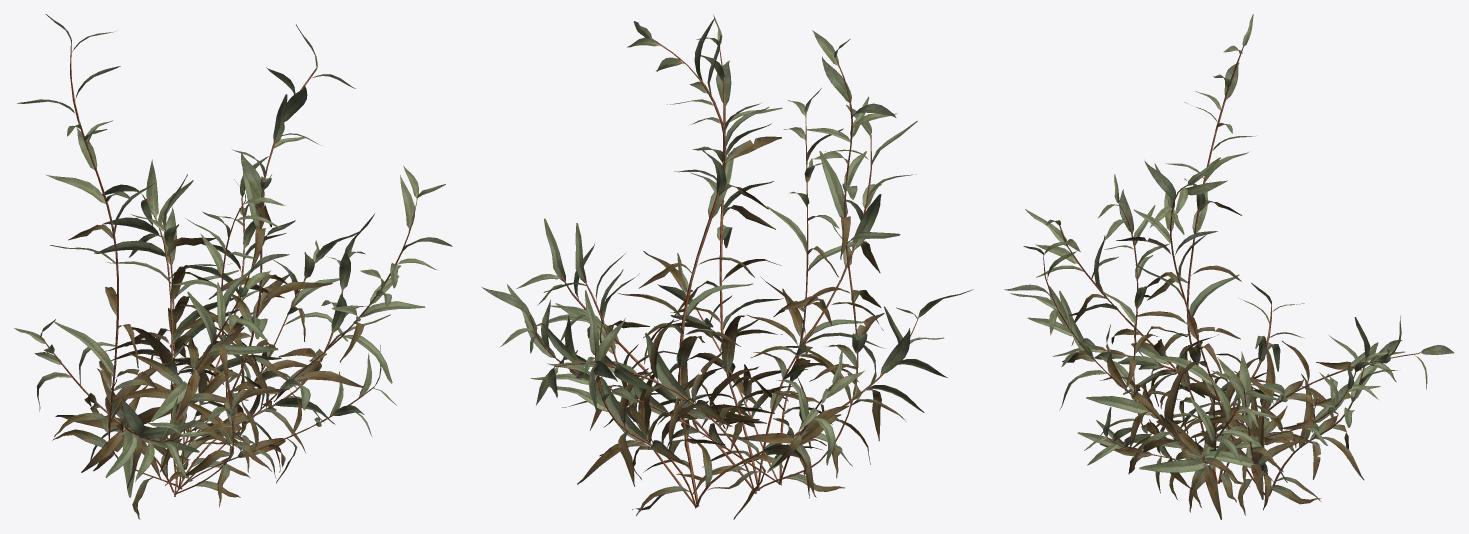
Rendered from shrubs.glb.
3 renders of one model, left to right at view 1: azimuth 30°, elevation 25°; view 2: azimuth 150°, elevation 25°; view 3: azimuth 270°, elevation 25°, orthographic. The views are drawn at different scales.
Visible parts, largest first — view 1: shrub_a, shrub_b, shrub_d; view 2: shrub_a, shrub_b, shrub_d; view 3: shrub_a, shrub_b, shrub_d.
Part boxes in pixels (x1,y1,x2,y2): shrub_a: (17,14,452,519); shrub_b: (55,24,361,497); shrub_d: (14,156,396,507); shrub_a: (516,14,917,494); shrub_b: (541,18,973,519); shrub_d: (482,88,864,497); shrub_a: (1004,14,1454,519); shrub_b: (1052,157,1405,515); shrub_d: (1077,174,1380,499).
Size of the model in its own units: 1.31 by 1.69 by 1.64.
1 material, 1 textured.
